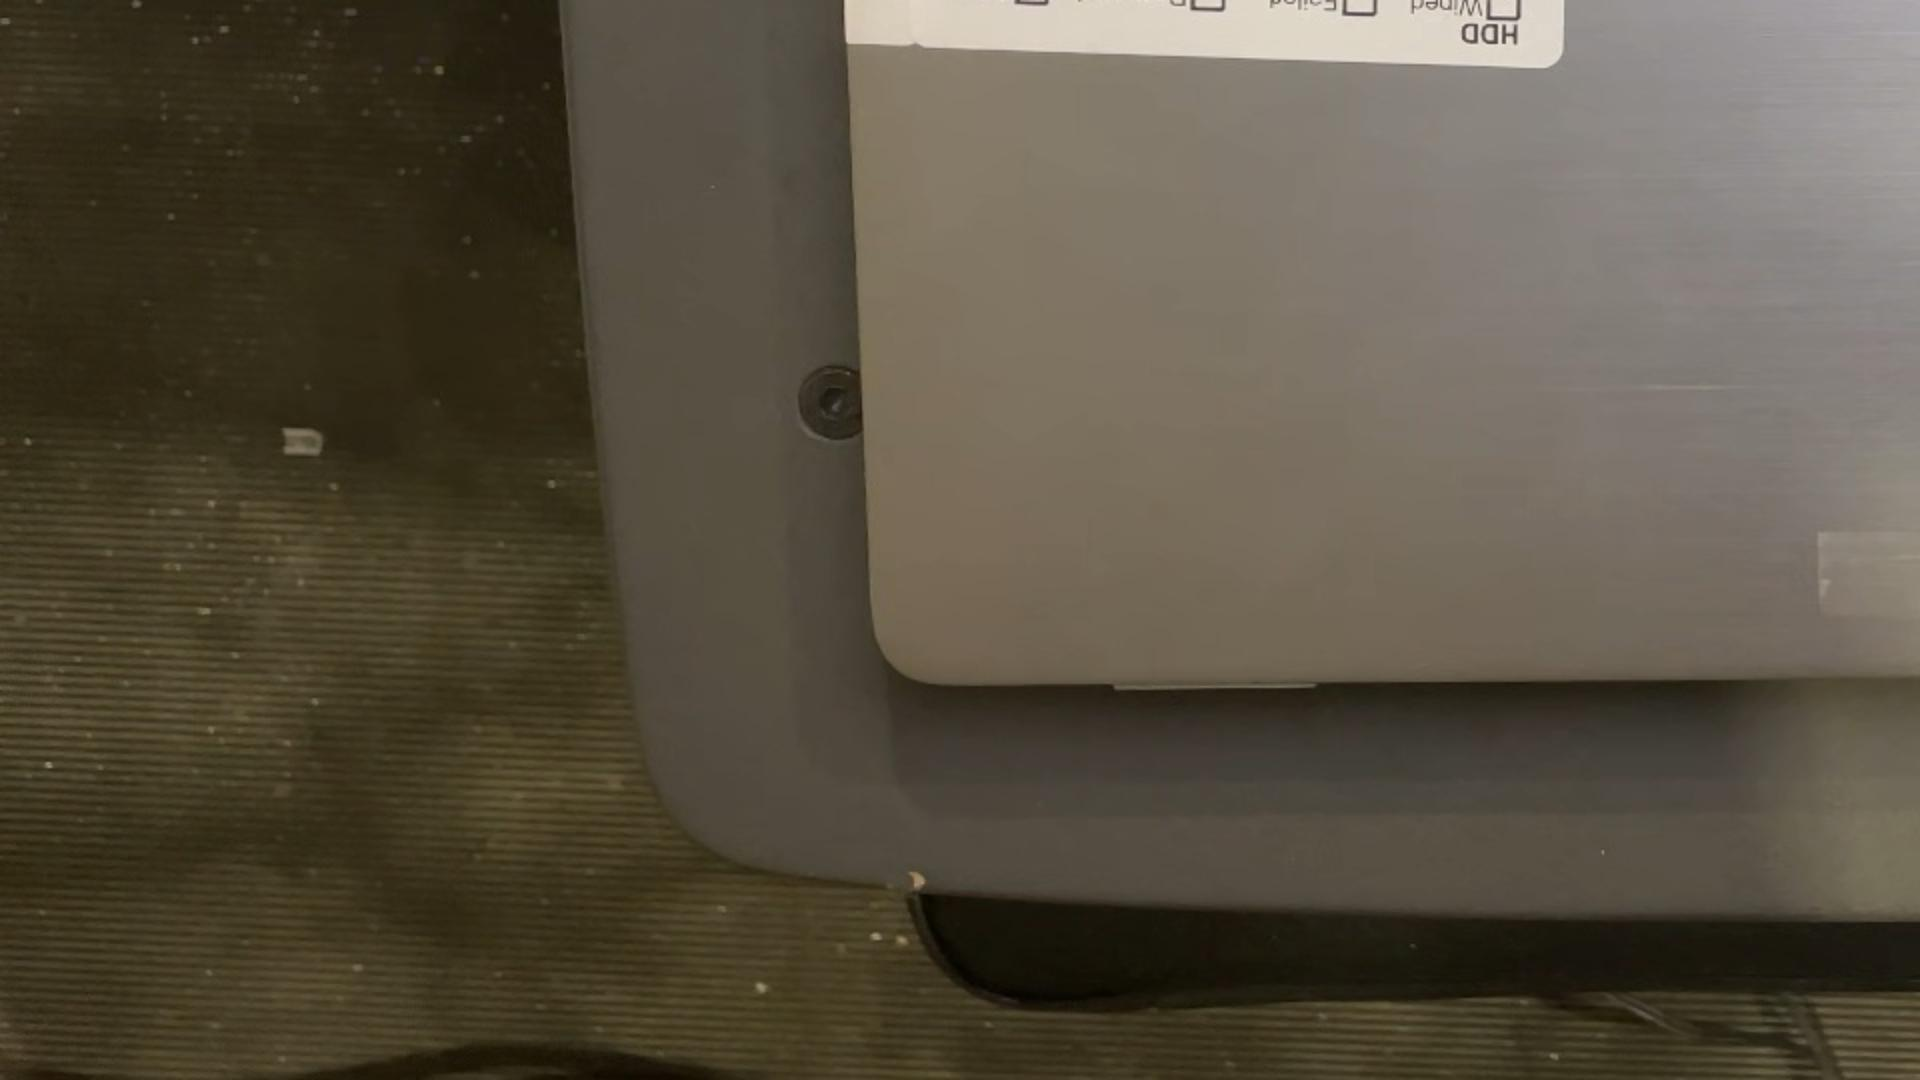scratches: (1610, 382, 1759, 393)
